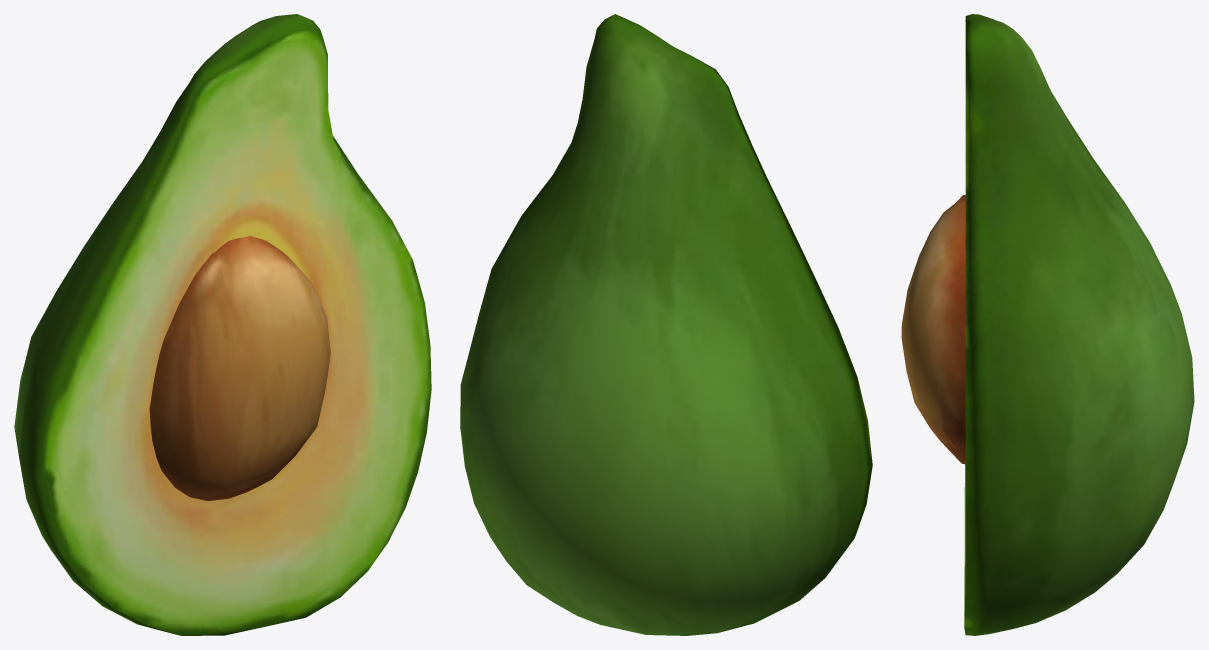
Rendered from Avocado.glb.
The picture shows the model from 3 angles, left to right: view 1: azimuth 30°, elevation 25°; view 2: azimuth 150°, elevation 25°; view 3: azimuth 270°, elevation 25°; orthographic projection. The views are drawn at different scales.
Visible parts, largest first — view 1: Avocado; view 2: Avocado; view 3: Avocado.
Part boxes in pixels (x1,y1,x2,y2): Avocado: [14, 14, 431, 635]; Avocado: [460, 14, 872, 635]; Avocado: [901, 14, 1194, 635].
Size of the model in its own units: 0.0426 by 0.0629 by 0.0276.
1 material, 1 textured.
